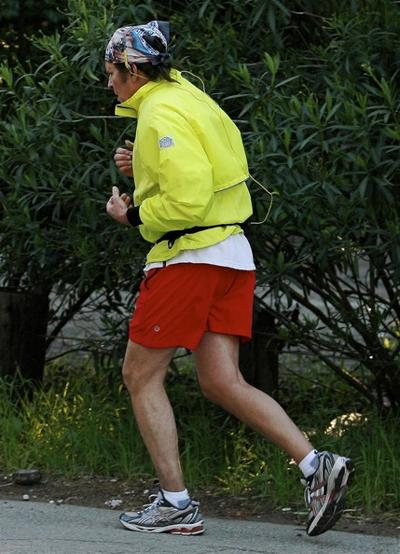person: (104, 21, 355, 539)
